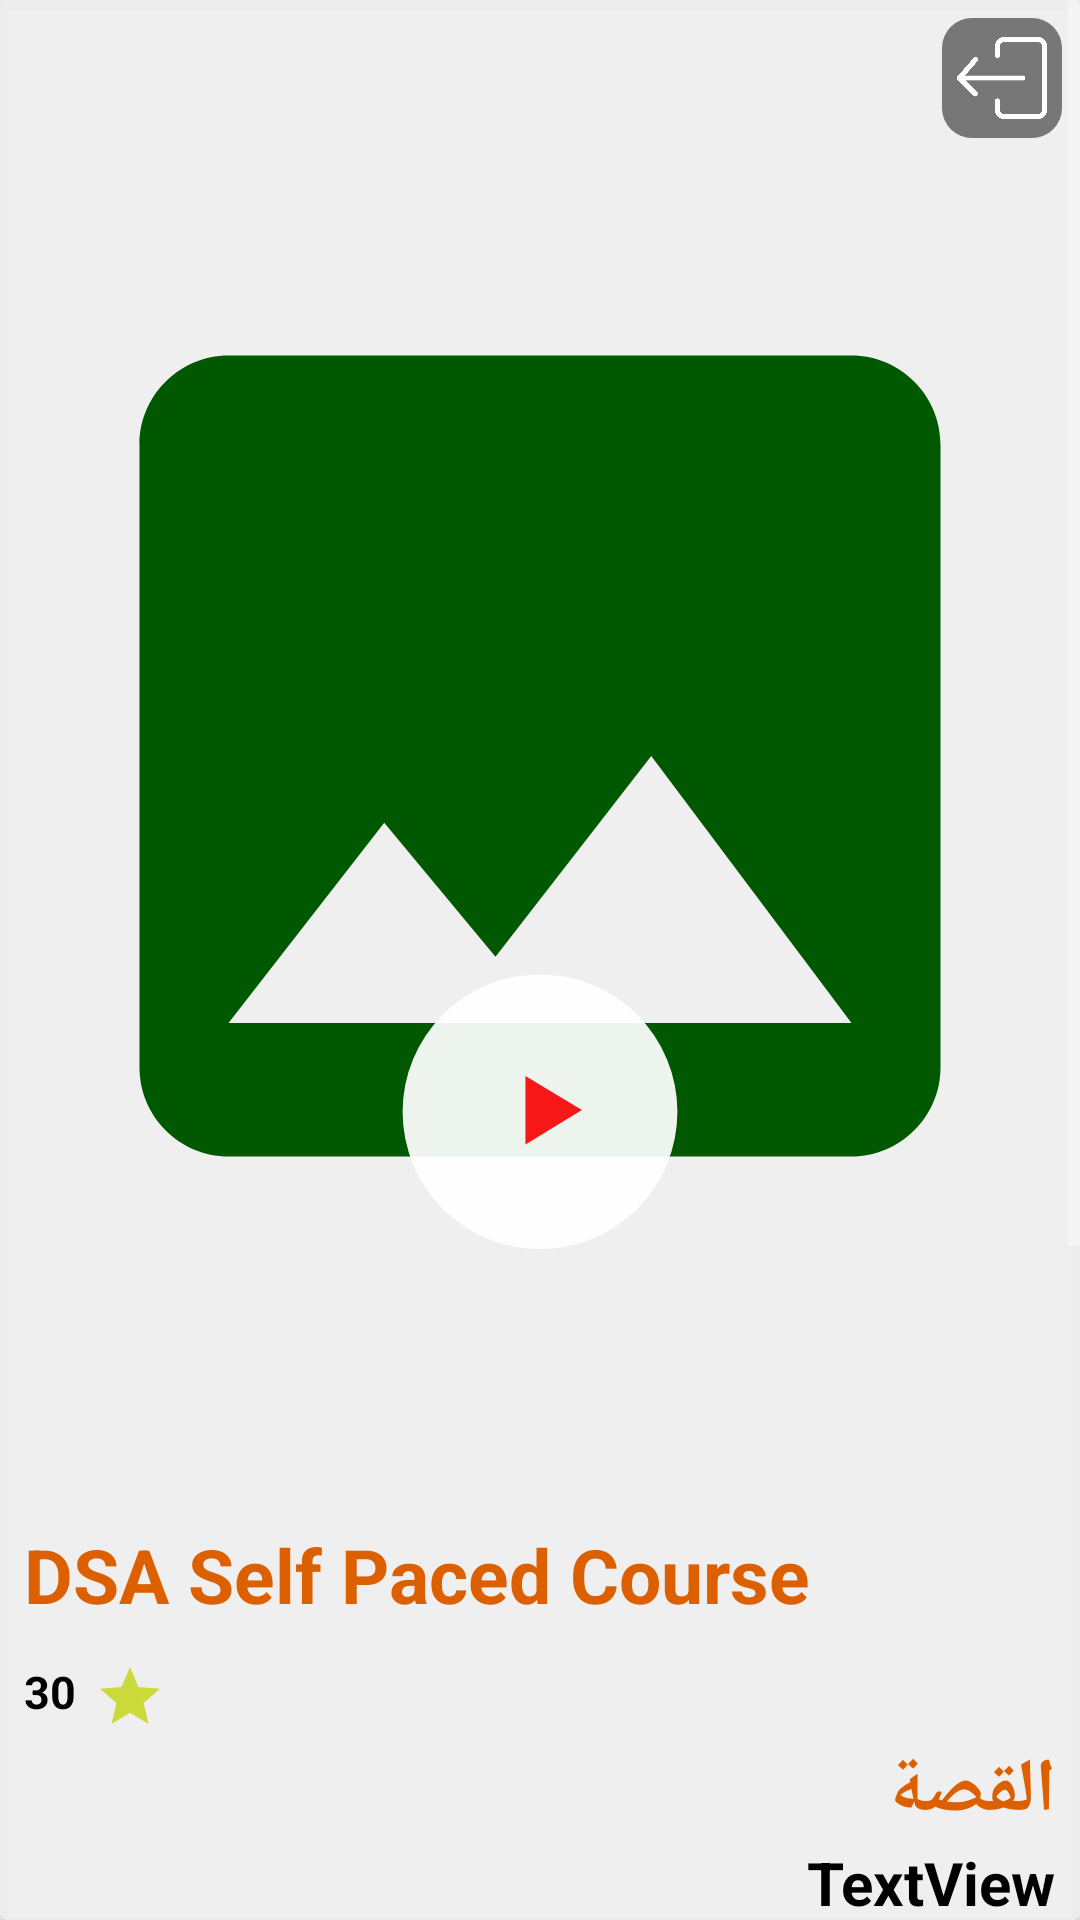

Point at icon controls on the screen. Image size 1080*1920, points as [x,y].
exit: [1002,78]
star: [130,1695]
